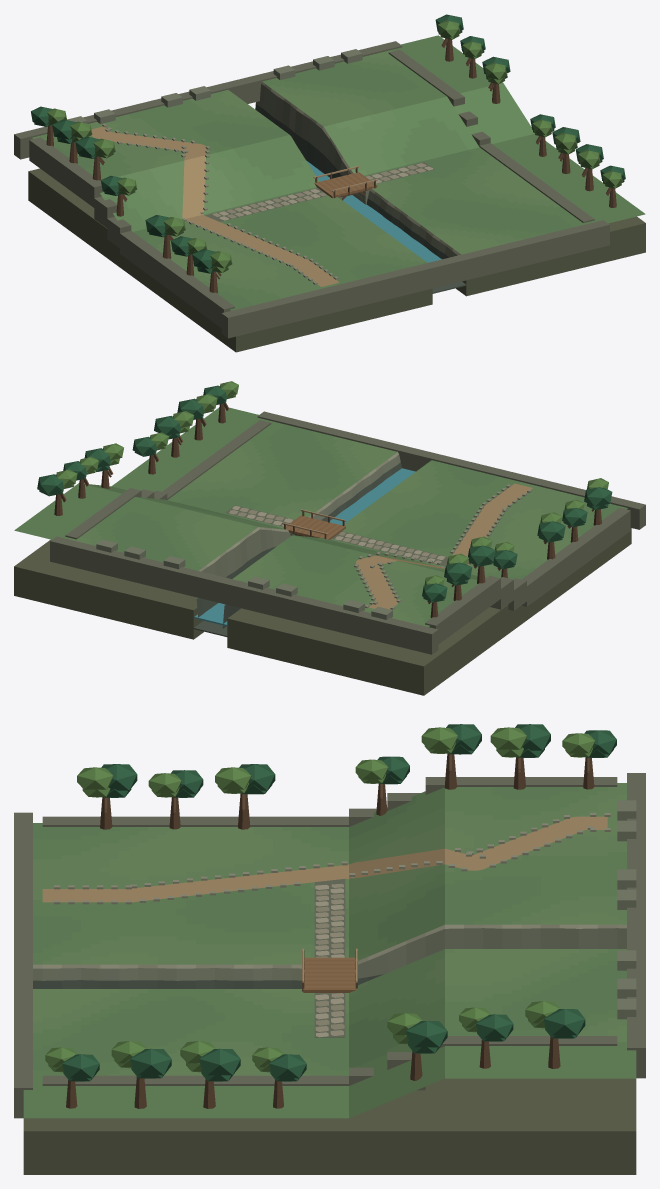
Rendered from frontier-terrain.glb.
The picture shows the model from 3 angles, top to bottom: view 1: azimuth 30°, elevation 25°; view 2: azimuth 150°, elevation 25°; view 3: azimuth 270°, elevation 25°; orthographic projection. The views are drawn at different scales.
Visible parts, largest first — view 1: Grass slopes / river trench; view 2: Grass slopes / river trench; view 3: Grass slopes / river trench.
Part boxes in pixels (box(x1,y1,x2,y2)): Grass slopes / river trench: box(14, 14, 645, 352); Grass slopes / river trench: box(14, 381, 645, 695); Grass slopes / river trench: box(14, 724, 645, 1174).
Size of the model in its own units: 75 by 18.3 by 66.
